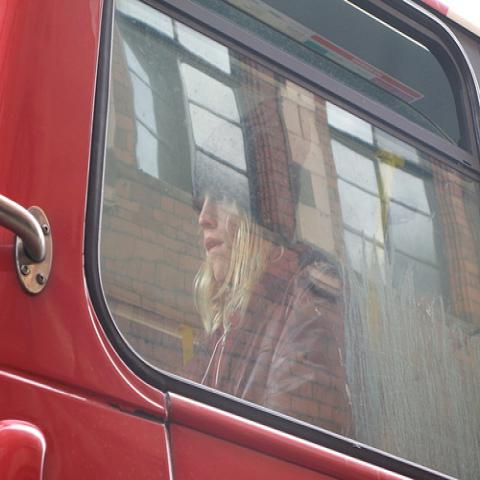bus: (38, 2, 479, 476)
